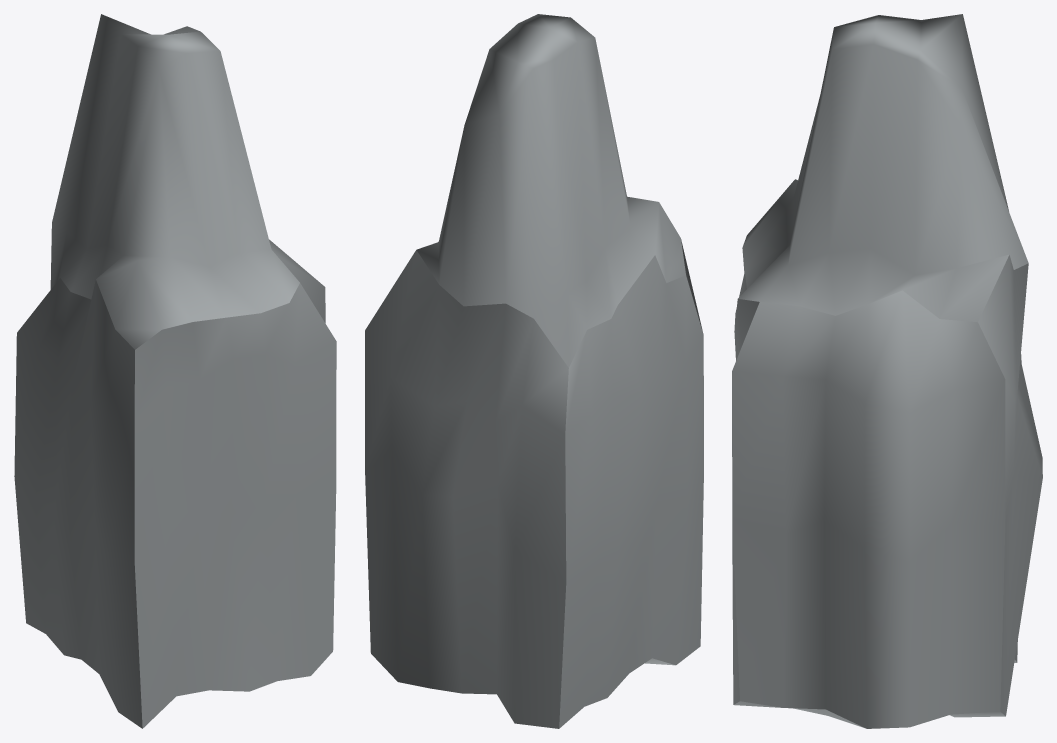
Rendered from Peak.fbx.
3 renders of one model, left to right at view 1: azimuth 30°, elevation 25°; view 2: azimuth 150°, elevation 25°; view 3: azimuth 270°, elevation 25°, orthographic. The views are drawn at different scales.
Parts seen in each view (by area): view 1: peak3; view 2: peak3; view 3: peak3.
Boxes of the visible parts, x1=… form: peak3: x1=14, y1=14, x2=336, y2=728; peak3: x1=365, y1=14, x2=703, y2=728; peak3: x1=732, y1=14, x2=1042, y2=728.
Bounding box in the file's own units: 66.69 × 160 × 68.01.
